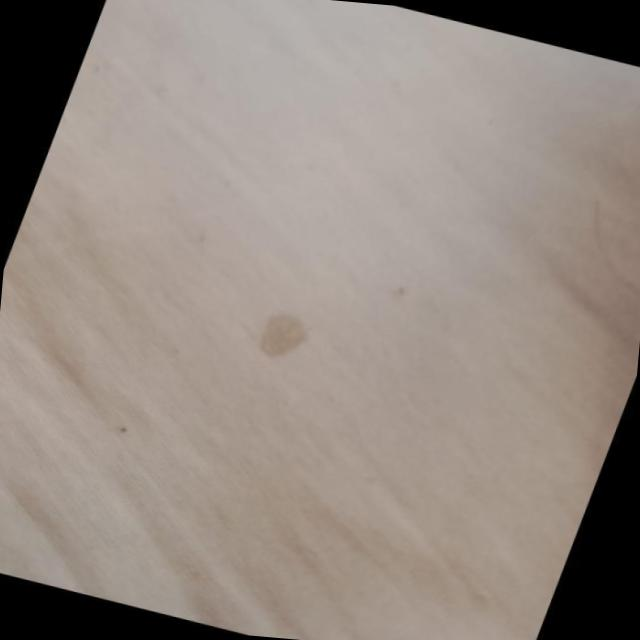stain: (226, 290, 338, 382)
